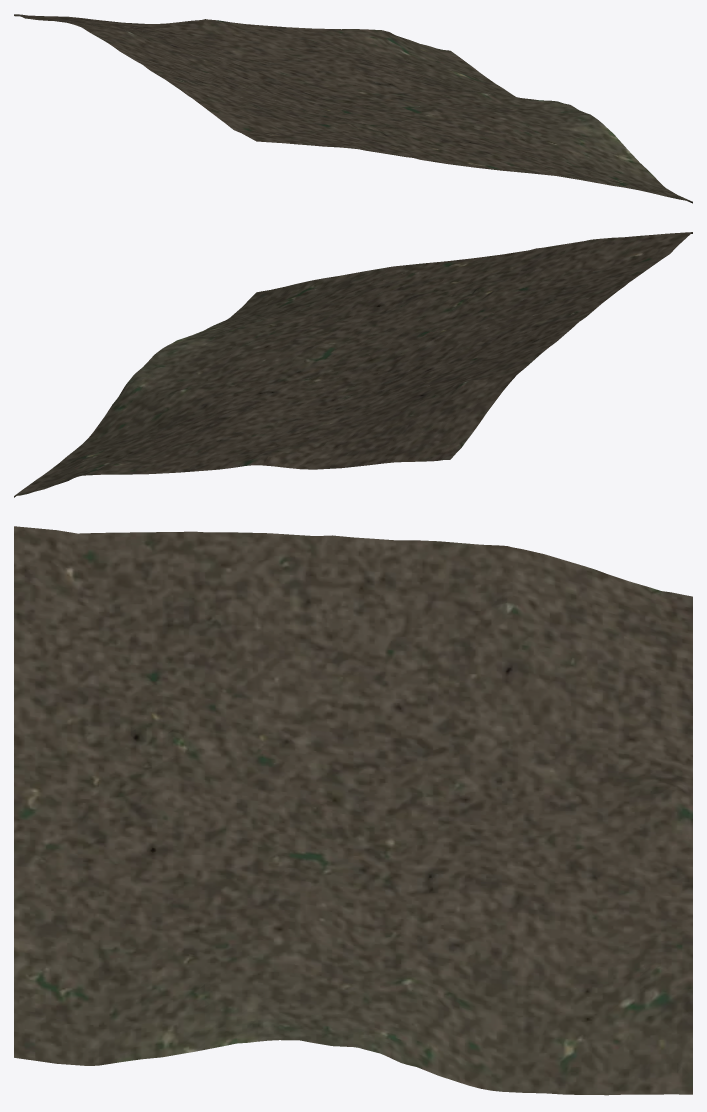
The picture shows the model from 3 angles, top to bottom: view 1: azimuth 30°, elevation 25°; view 2: azimuth 150°, elevation 25°; view 3: azimuth 270°, elevation 25°; orthographic projection. The views are drawn at different scales.
Size of the model in its own units: 250 by 107 by 241.
Materials: 1 (1 with a texture image).
